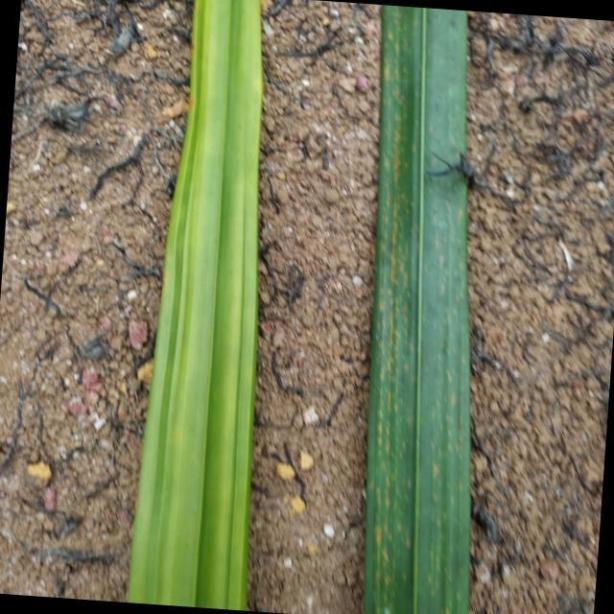nitrogen: (128, 0, 269, 614), (361, 0, 468, 614)
